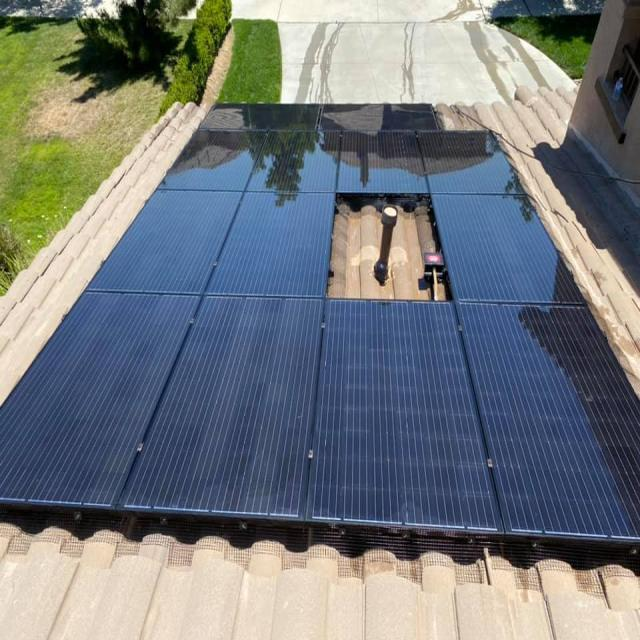clean-solar-panel: (89, 103, 584, 305)
dust-solar-panel: (0, 292, 640, 541)
